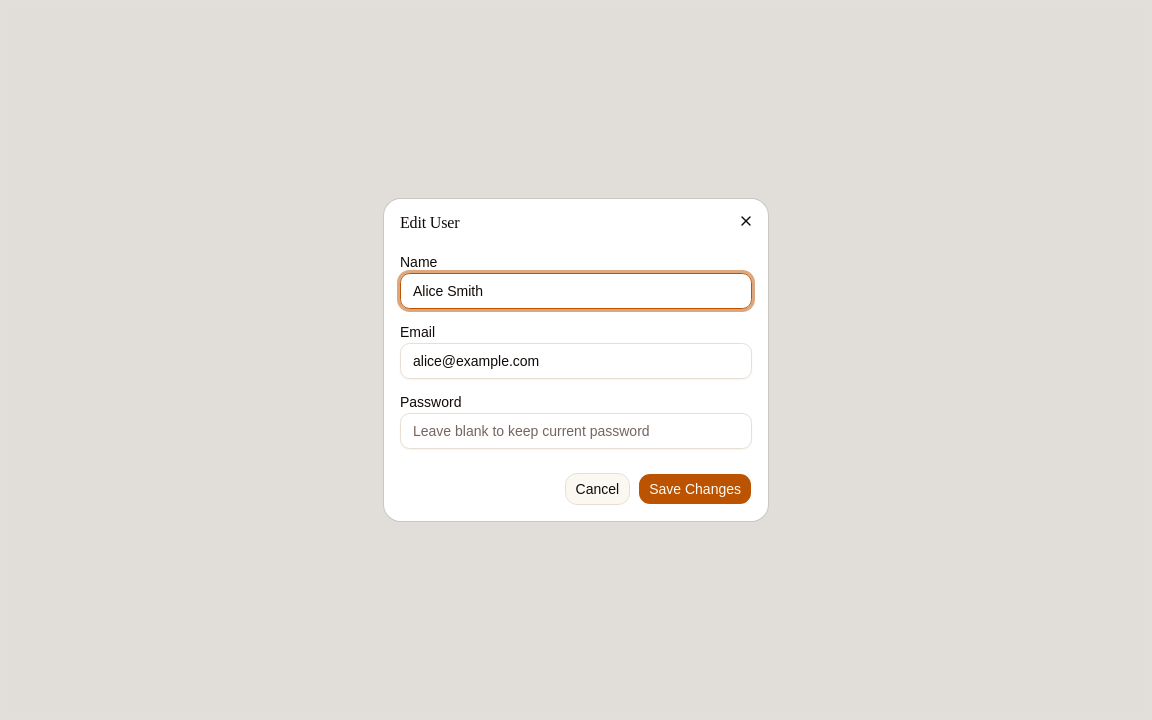
Test: EditUserDialog › shows name error when name is too short
Replace the text in the field labelled "Name" with "Jo" at point(576, 291), box [400,273,752,309]
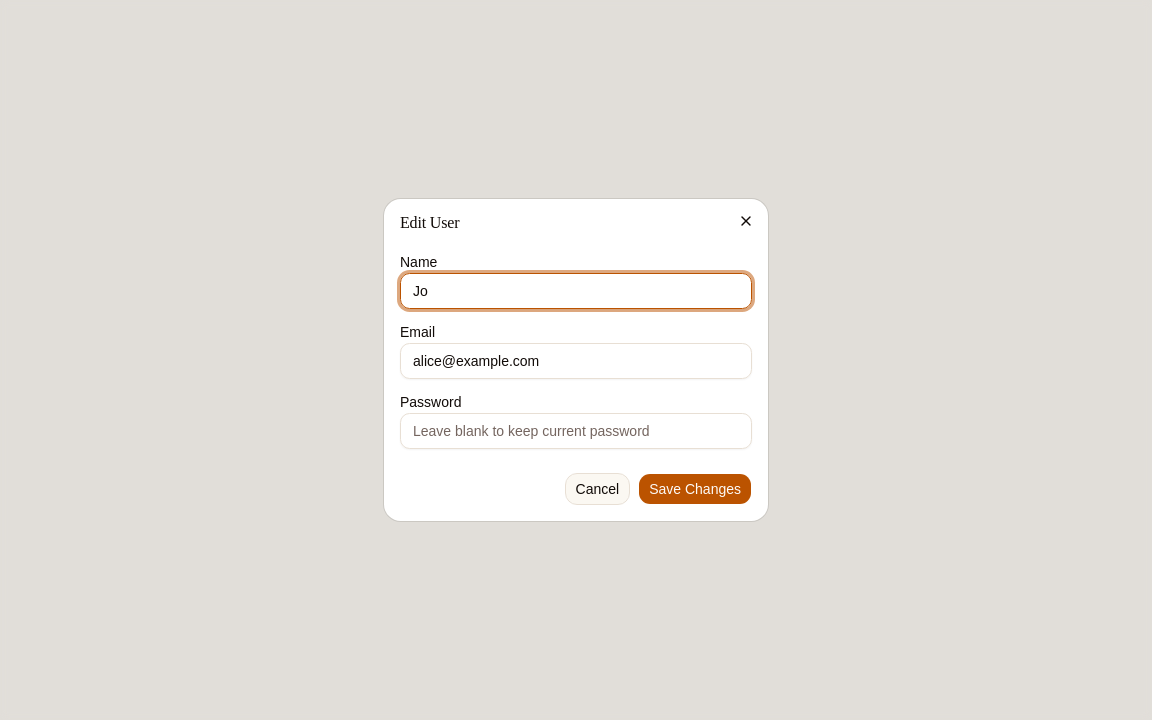
Click the button "Save Changes" at point(695, 489), box [638,473,752,505]
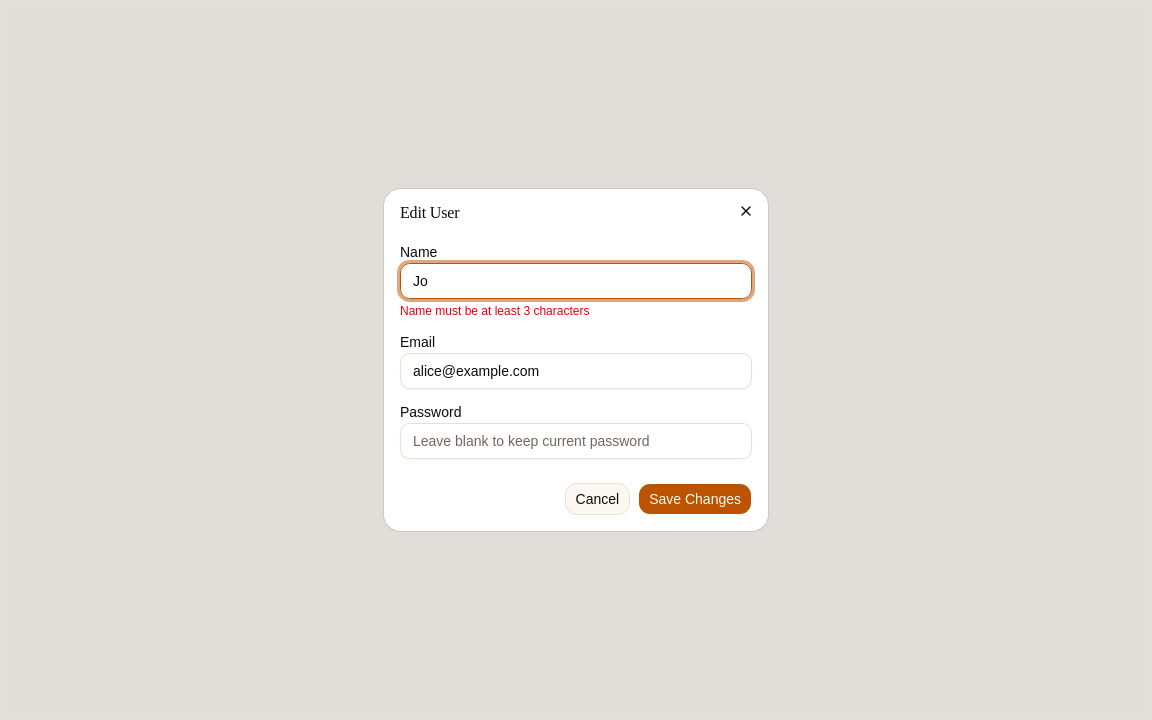
Now the text "Name must be at least 3 characters" is shown, box [400,304,589,318]
